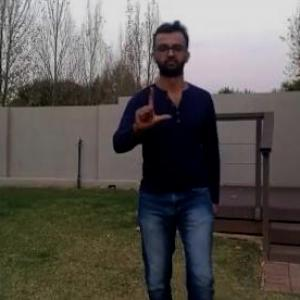land_hand: (129, 82, 172, 134)
